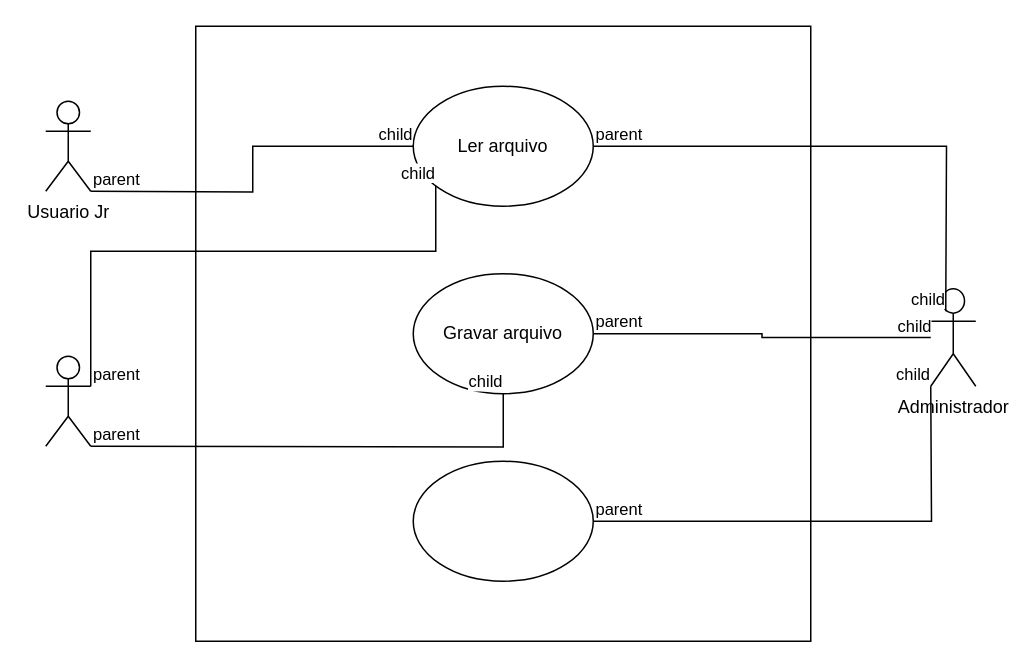
The diagram is 1035 pixels wide and 668 high, and some of its shapes have lost their labels. Each missing label, with the box of its shape:
Excluir Arquivo: (412, 460, 593, 581)
Usuário Sr: (44, 355, 91, 446)
